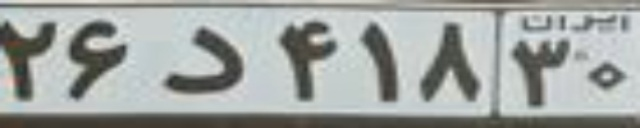0: (583, 61, 627, 92)
1: (354, 21, 401, 101)
2: (2, 16, 58, 101)
3: (511, 36, 574, 107)
4: (273, 21, 340, 101)
6: (68, 19, 132, 100)
8: (417, 21, 483, 103)
dal: (162, 25, 244, 93)
